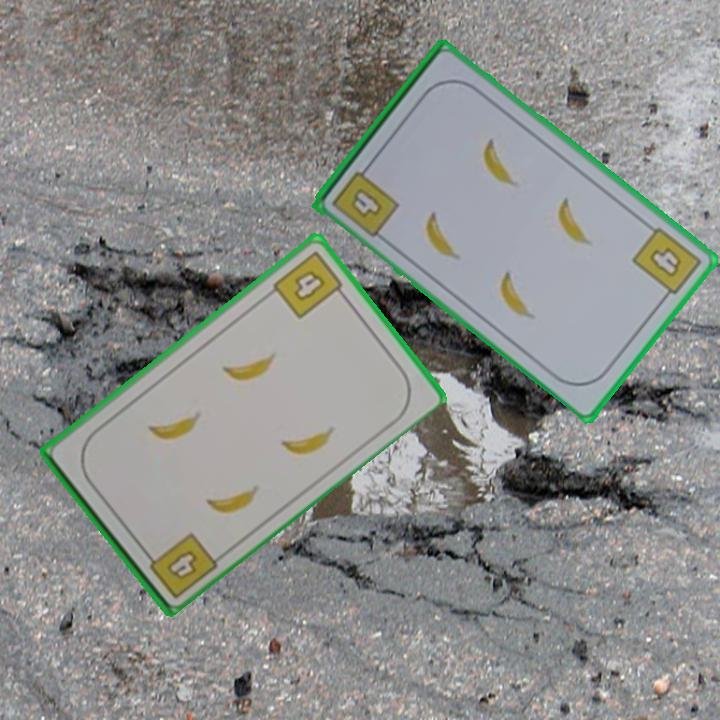4b: (628, 223, 705, 305), (269, 247, 350, 322), (139, 529, 220, 602), (351, 188, 386, 221)
